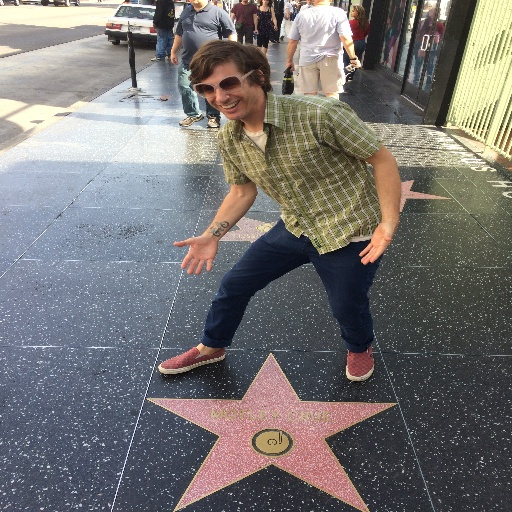hand: (172, 230, 220, 276), (359, 220, 398, 266), (168, 53, 179, 66), (350, 59, 363, 68), (284, 63, 295, 73)
